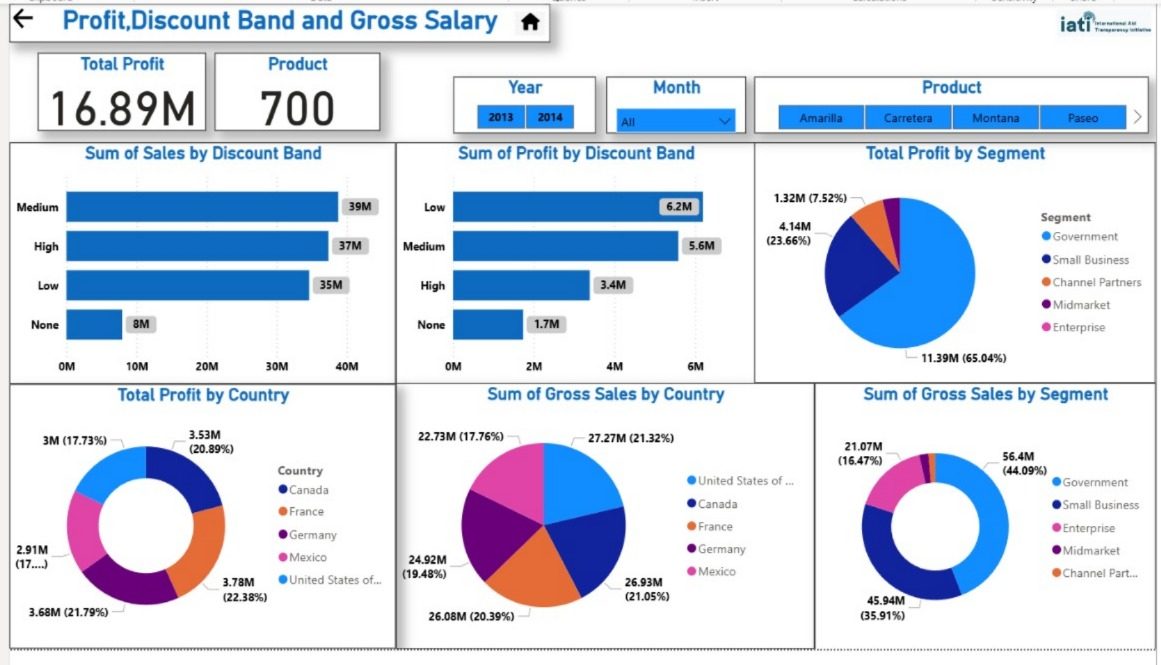

This screenshot's page, from the dashboard's own definition file:
{"tool":"powerbi","page":{"name":"Q9.Next Page","canvas":[1280,720],"ordinal":2},"visuals":[{"type":"barChart","fields":{"Category":["financials.Discount Band"],"Y":["Sum(financials. Sales)"]},"box":[0,154.6,431.5,269.7],"z":0},{"type":"barChart","fields":{"Category":["financials.Discount Band"],"Y":["Sum(financials.Profit)"]},"box":[431.5,154.6,401.5,269.7],"z":1000},{"type":"pieChart","fields":{"Category":["financials.Country"],"Y":["Sum(financials.Gross Sales)"]},"box":[432.7,423.1,466.2,297.2],"z":2000},{"type":"donutChart","fields":{"Category":["financials.Segment"],"Y":["Sum(financials.Gross Sales)"]},"box":[898.8,422.7,380.9,297.2],"z":3000},{"type":"textbox","title":"Profit,Discount Band and Gross Salary","box":[0,0,602.8,43.1],"z":4000},{"type":"pieChart","title":"Total Profit by Segment","fields":{"Category":["financials.Segment"],"Y":["Sum(financials.Profit)"]},"box":[831.8,154.6,448.2,268.5],"z":5000},{"type":"donutChart","title":"Total Profit by  Country","fields":{"Y":["Sum(financials.Profit)"],"Series":["financials.Country"]},"box":[0,424.2,432.8,295.8],"z":6000},{"type":"actionButton","box":[0,0,31.2,32.4],"z":7000},{"type":"card","title":"Total Profit","fields":{"Values":["Sum(financials.Profit)"]},"box":[31.2,55.1,188.2,87.5],"z":8000},{"type":"card","title":"Product","fields":{"Values":["CountNonNull(financials.Product)"]},"box":[228.9,55.1,184.6,87.5],"z":9000},{"type":"image","box":[559.7,0,43.1,44.3],"z":10000},{"type":"image","box":[1163.7,0,116.3,41.9],"z":11000},{"type":"slicer","title":"Year","fields":{"Values":["financials.Year"]},"box":[495,81.5,159.4,63.5],"z":13000},{"type":"slicer","title":"Month","fields":{"Values":["financials.Month Name"]},"box":[666.4,81.5,155.8,63.5],"z":14000},{"type":"slicer","title":"Product","fields":{"Values":["financials.Product"]},"box":[831.2,81,439.9,63.5],"z":15000}]}

Visuals, with their boxes in screenshot pixels (x1, y1, x2, y2), scaled from the page's 1280x720 canvas onto the 1161x665 screenshot:
barChart - financials.Discount Band x Sum(financials. Sales): <bbox>0, 143, 391, 392</bbox>
barChart - financials.Discount Band x Sum(financials.Profit): <bbox>391, 143, 756, 392</bbox>
pieChart - financials.Country x Sum(financials.Gross Sales): <bbox>392, 391, 815, 664</bbox>
donutChart - financials.Segment x Sum(financials.Gross Sales): <bbox>815, 390, 1160, 664</bbox>
"Profit,Discount Band and Gross Salary" textbox: <bbox>0, 0, 547, 40</bbox>
"Total Profit by Segment" pieChart: <bbox>754, 143, 1160, 391</bbox>
"Total Profit by  Country" donutChart: <bbox>0, 392, 393, 664</bbox>
actionButton: <bbox>0, 0, 28, 30</bbox>
"Total Profit" card: <bbox>28, 51, 199, 132</bbox>
"Product" card: <bbox>208, 51, 375, 132</bbox>
image: <bbox>508, 0, 547, 41</bbox>
image: <bbox>1056, 0, 1160, 39</bbox>
"Year" slicer: <bbox>449, 75, 594, 134</bbox>
"Month" slicer: <bbox>604, 75, 746, 134</bbox>
"Product" slicer: <bbox>754, 75, 1153, 133</bbox>
